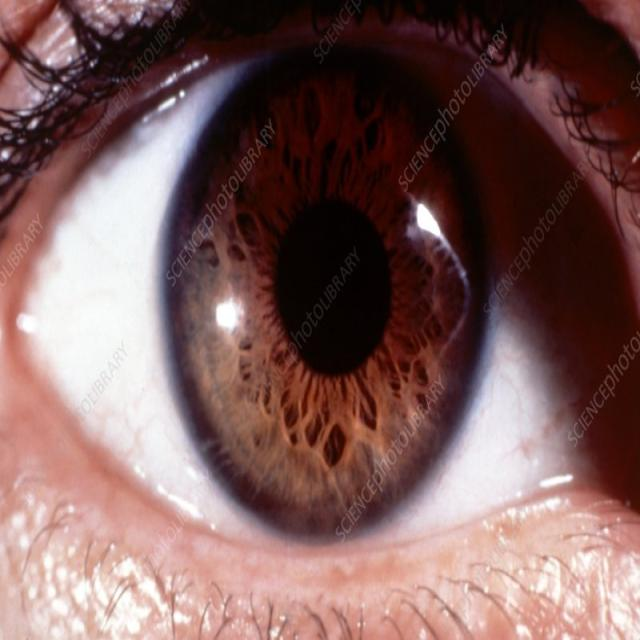Normal: (159, 40, 495, 544)
